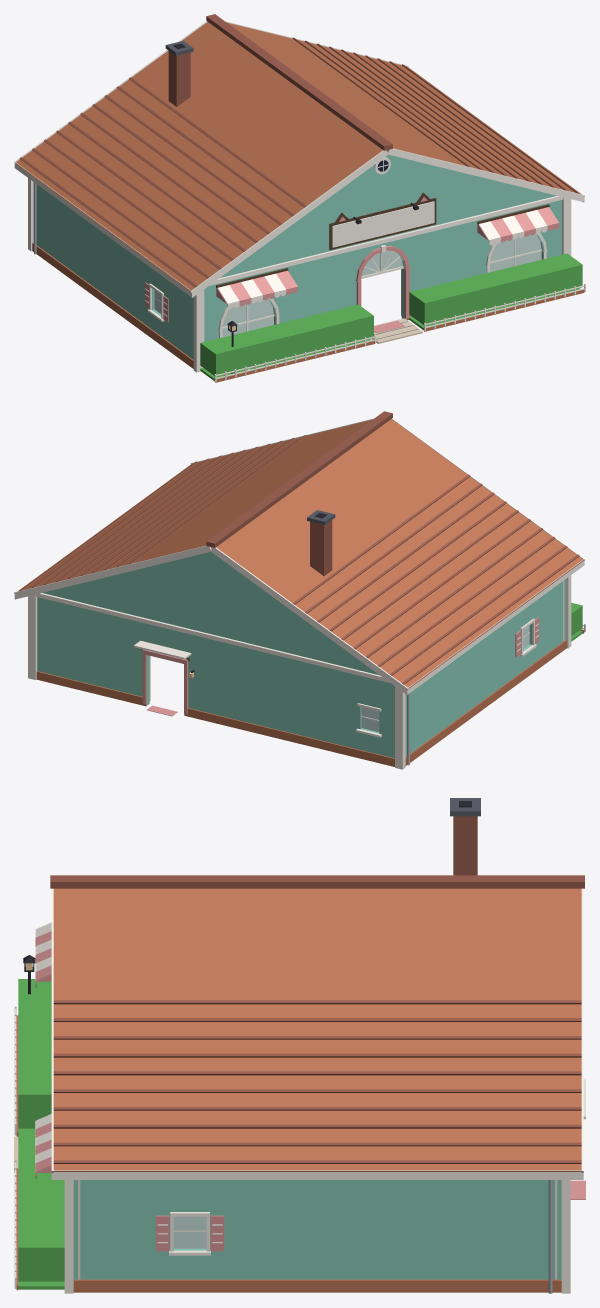
The model's file is CatCafe_Plot_Cafe_Mint_56x43.glb.
3 renders of one model, top to bottom at view 1: azimuth 30°, elevation 25°; view 2: azimuth 150°, elevation 25°; view 3: azimuth 270°, elevation 25°, orthographic. The views are drawn at different scales.
Visible parts, largest first — view 1: CatCafe_Plot_Cafe_Mint_56x43_Roof, CatCafe_Plot_Cafe_Mint_56x43_Paint, CatCafe_Plot_Cafe_Mint_56x43_Fireflies, CatCafe_Plot_Cafe_Mint_56x43_Trim, CatCafe_Plot_Cafe_Mint_56x43_Roof_Trim, CatCafe_Plot_Cafe_Mint_56x43_Awning, CatCafe_Plot_Cafe_Mint_56x43_Glass, CatCafe_Plot_Cafe_Mint_56x43, CatCafe_Plot_Cafe_Mint_56x43_Garden, CatCafe_Plot_Cafe_Mint_56x43_SignBoard, CatCafe_Plot_Cafe_Mint_56x43_Flowers, CatCafe_Plot_Cafe_Mint_56x43_Path; view 2: CatCafe_Plot_Cafe_Mint_56x43_Roof, CatCafe_Plot_Cafe_Mint_56x43_Paint, CatCafe_Plot_Cafe_Mint_56x43_Trim, CatCafe_Plot_Cafe_Mint_56x43_Roof_Trim, CatCafe_Plot_Cafe_Mint_56x43, CatCafe_Plot_Cafe_Mint_56x43_Glass; view 3: CatCafe_Plot_Cafe_Mint_56x43_Roof, CatCafe_Plot_Cafe_Mint_56x43_Paint, CatCafe_Plot_Cafe_Mint_56x43_Fireflies, CatCafe_Plot_Cafe_Mint_56x43, CatCafe_Plot_Cafe_Mint_56x43_Roof_Trim, CatCafe_Plot_Cafe_Mint_56x43_Trim, CatCafe_Plot_Cafe_Mint_56x43_Awning, CatCafe_Plot_Cafe_Mint_56x43_Garden, CatCafe_Plot_Cafe_Mint_56x43_Glass.
Boxes of the visible parts, bbox=[...] form: CatCafe_Plot_Cafe_Mint_56x43_Roof: bbox=[15, 14, 581, 291]; CatCafe_Plot_Cafe_Mint_56x43_Paint: bbox=[33, 154, 561, 359]; CatCafe_Plot_Cafe_Mint_56x43_Fireflies: bbox=[200, 253, 582, 376]; CatCafe_Plot_Cafe_Mint_56x43_Trim: bbox=[28, 157, 571, 372]; CatCafe_Plot_Cafe_Mint_56x43_Roof_Trim: bbox=[14, 21, 584, 297]; CatCafe_Plot_Cafe_Mint_56x43_Awning: bbox=[216, 207, 559, 308]; CatCafe_Plot_Cafe_Mint_56x43_Glass: bbox=[154, 234, 541, 337]; CatCafe_Plot_Cafe_Mint_56x43: bbox=[32, 160, 541, 368]; CatCafe_Plot_Cafe_Mint_56x43_Garden: bbox=[214, 284, 585, 382]; CatCafe_Plot_Cafe_Mint_56x43_SignBoard: bbox=[332, 201, 434, 247]; CatCafe_Plot_Cafe_Mint_56x43_Flowers: bbox=[200, 288, 580, 380]; CatCafe_Plot_Cafe_Mint_56x43_Path: bbox=[372, 318, 422, 343]; CatCafe_Plot_Cafe_Mint_56x43_Roof: bbox=[17, 411, 583, 688]; CatCafe_Plot_Cafe_Mint_56x43_Paint: bbox=[37, 552, 565, 758]; CatCafe_Plot_Cafe_Mint_56x43_Trim: bbox=[28, 575, 571, 769]; CatCafe_Plot_Cafe_Mint_56x43_Roof_Trim: bbox=[14, 418, 585, 694]; CatCafe_Plot_Cafe_Mint_56x43: bbox=[36, 617, 566, 766]; CatCafe_Plot_Cafe_Mint_56x43_Glass: bbox=[361, 625, 529, 732]; CatCafe_Plot_Cafe_Mint_56x43_Roof: bbox=[50, 798, 584, 1171]; CatCafe_Plot_Cafe_Mint_56x43_Paint: bbox=[73, 1180, 561, 1279]; CatCafe_Plot_Cafe_Mint_56x43_Fireflies: bbox=[18, 979, 64, 1281]; CatCafe_Plot_Cafe_Mint_56x43: bbox=[73, 1180, 585, 1293]; CatCafe_Plot_Cafe_Mint_56x43_Roof_Trim: bbox=[51, 888, 583, 1179]; CatCafe_Plot_Cafe_Mint_56x43_Trim: bbox=[64, 1079, 585, 1293]; CatCafe_Plot_Cafe_Mint_56x43_Awning: bbox=[35, 922, 51, 1178]; CatCafe_Plot_Cafe_Mint_56x43_Garden: bbox=[14, 955, 35, 1290]; CatCafe_Plot_Cafe_Mint_56x43_Glass: bbox=[173, 1216, 206, 1248].
Size of the model in its own units: 61.86 by 30.06 by 51.8.
1 material, 1 textured.
